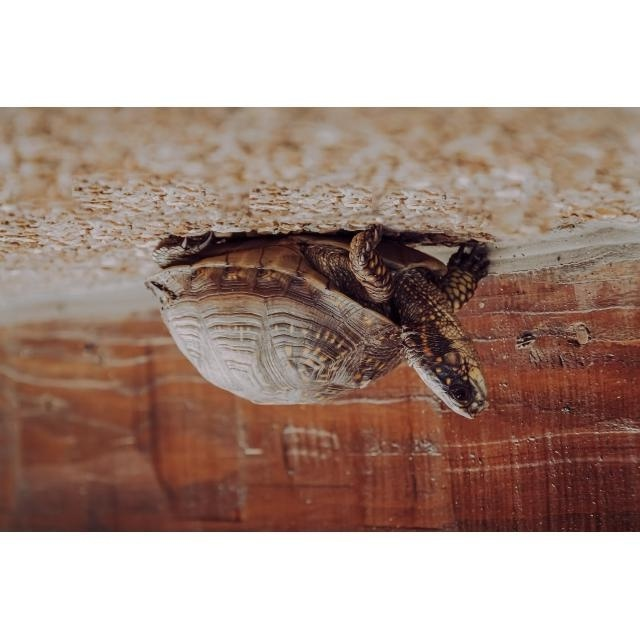turtle: (141, 219, 493, 421)
